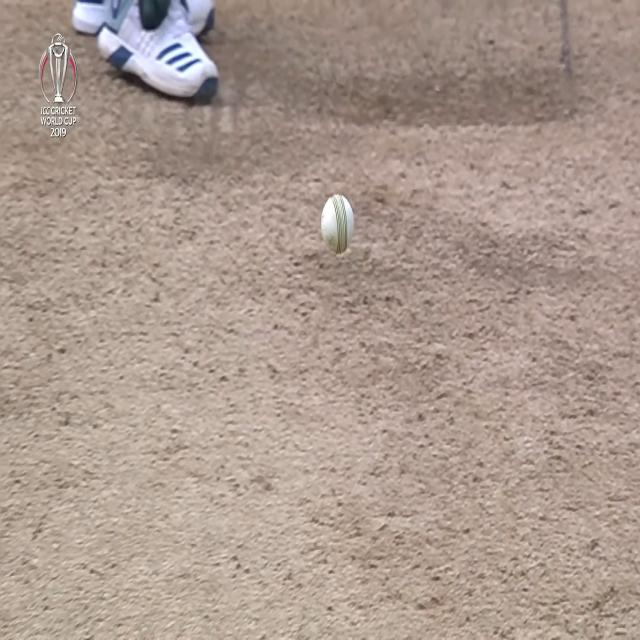Cricket ball: (321, 192, 355, 255)
